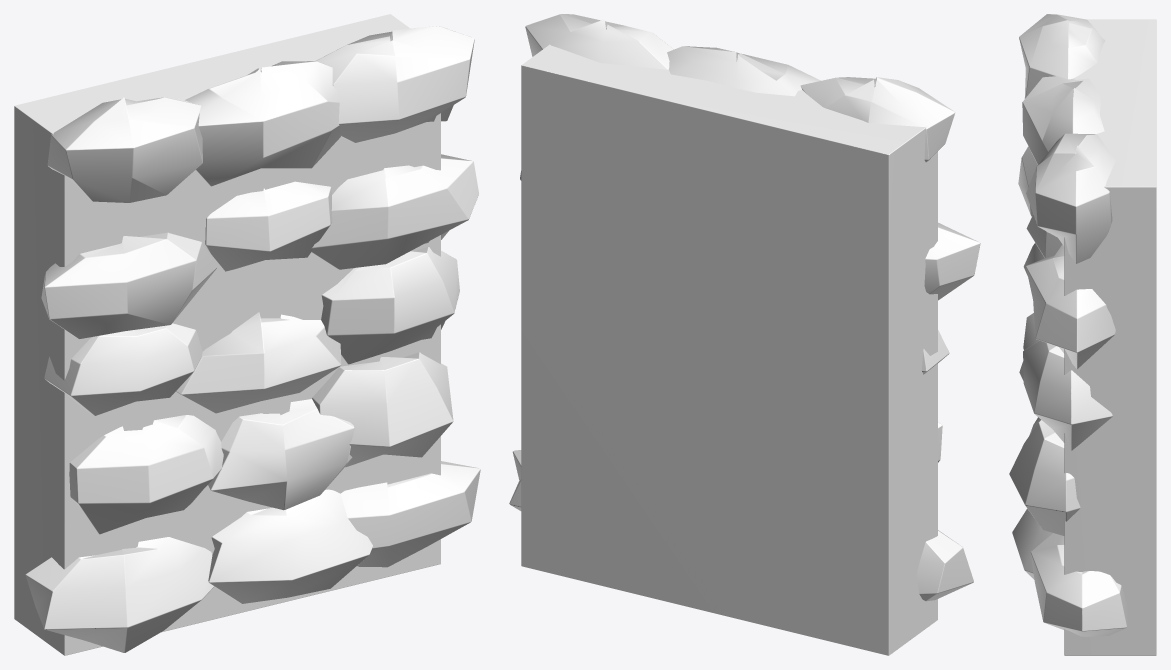
File: wall.glb
3 renders of one model, left to right at view 1: azimuth 30°, elevation 25°; view 2: azimuth 150°, elevation 25°; view 3: azimuth 270°, elevation 25°, orthographic. The views are drawn at different scales.
Parts seen in each view (by area): view 1: WallPlain; view 2: WallPlain; view 3: WallPlain.
Part boxes in pixels (left/top/right/bottom): WallPlain: left=14, top=14, right=480, bottom=655; WallPlain: left=509, top=14, right=980, bottom=655; WallPlain: left=1009, top=14, right=1156, bottom=655.
Size of the model in its own units: 5.22 by 5.91 by 1.59.
1 material, 1 textured.
